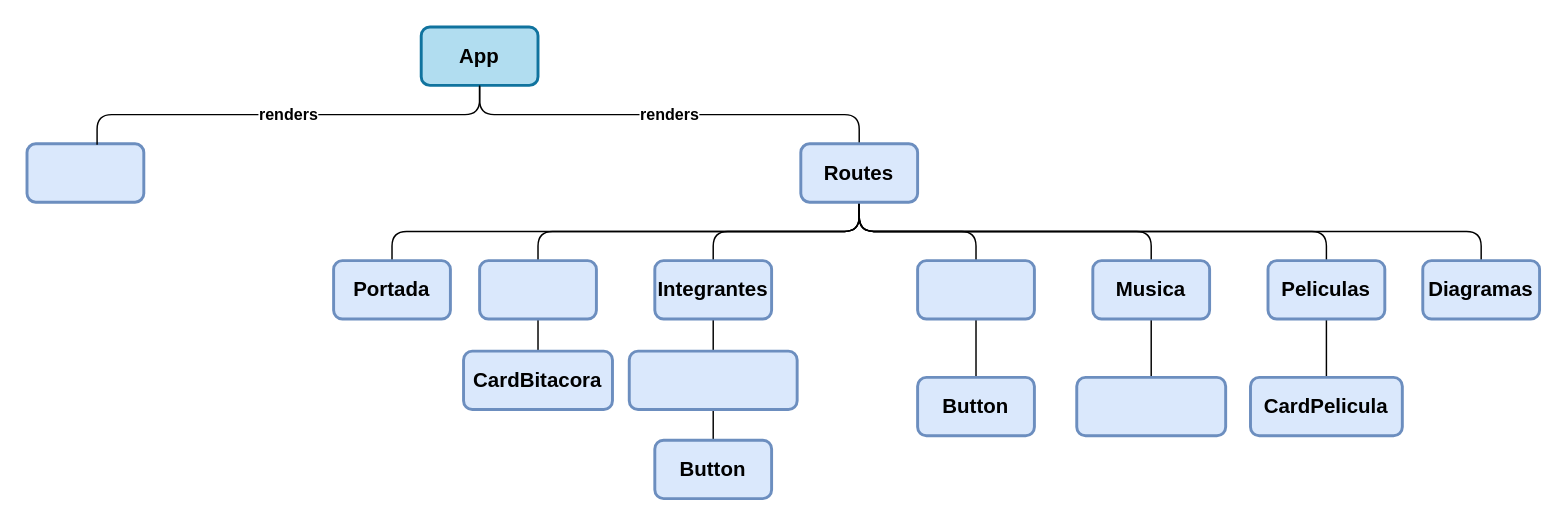
Image size: 1565x524. Some labels were removed from this diagram. The centre of each missing label's shape, as x and y in pixels:
Bitacora: the point at 537,289
CardIntegrante: the point at 712,379
CardMusica: the point at 1150,406
Integrante: the point at 975,289
Sidebar: the point at 85,172
